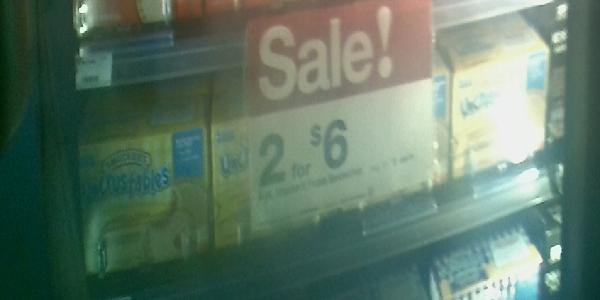icecream: (74, 120, 210, 275), (209, 101, 341, 253), (339, 70, 451, 234), (449, 43, 546, 182)
